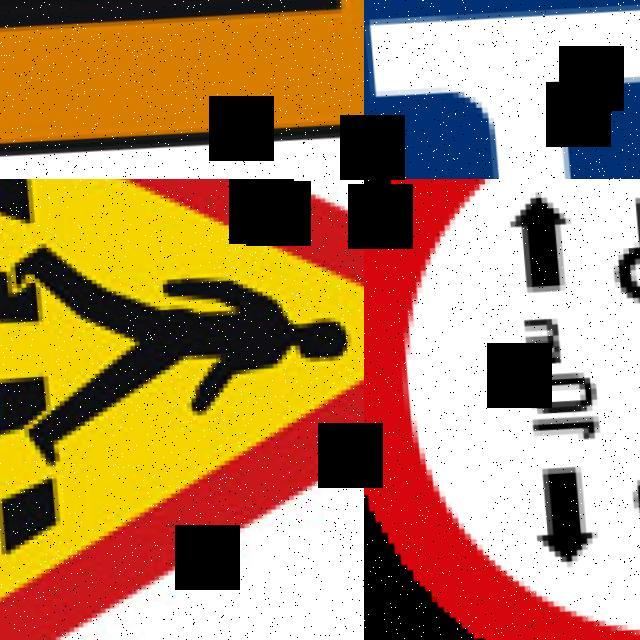167: (0, 179, 364, 640)
63: (0, 0, 364, 178)
Turn left or straight ahead: (364, 0, 640, 179)
length limit-10m: (364, 179, 640, 640)
